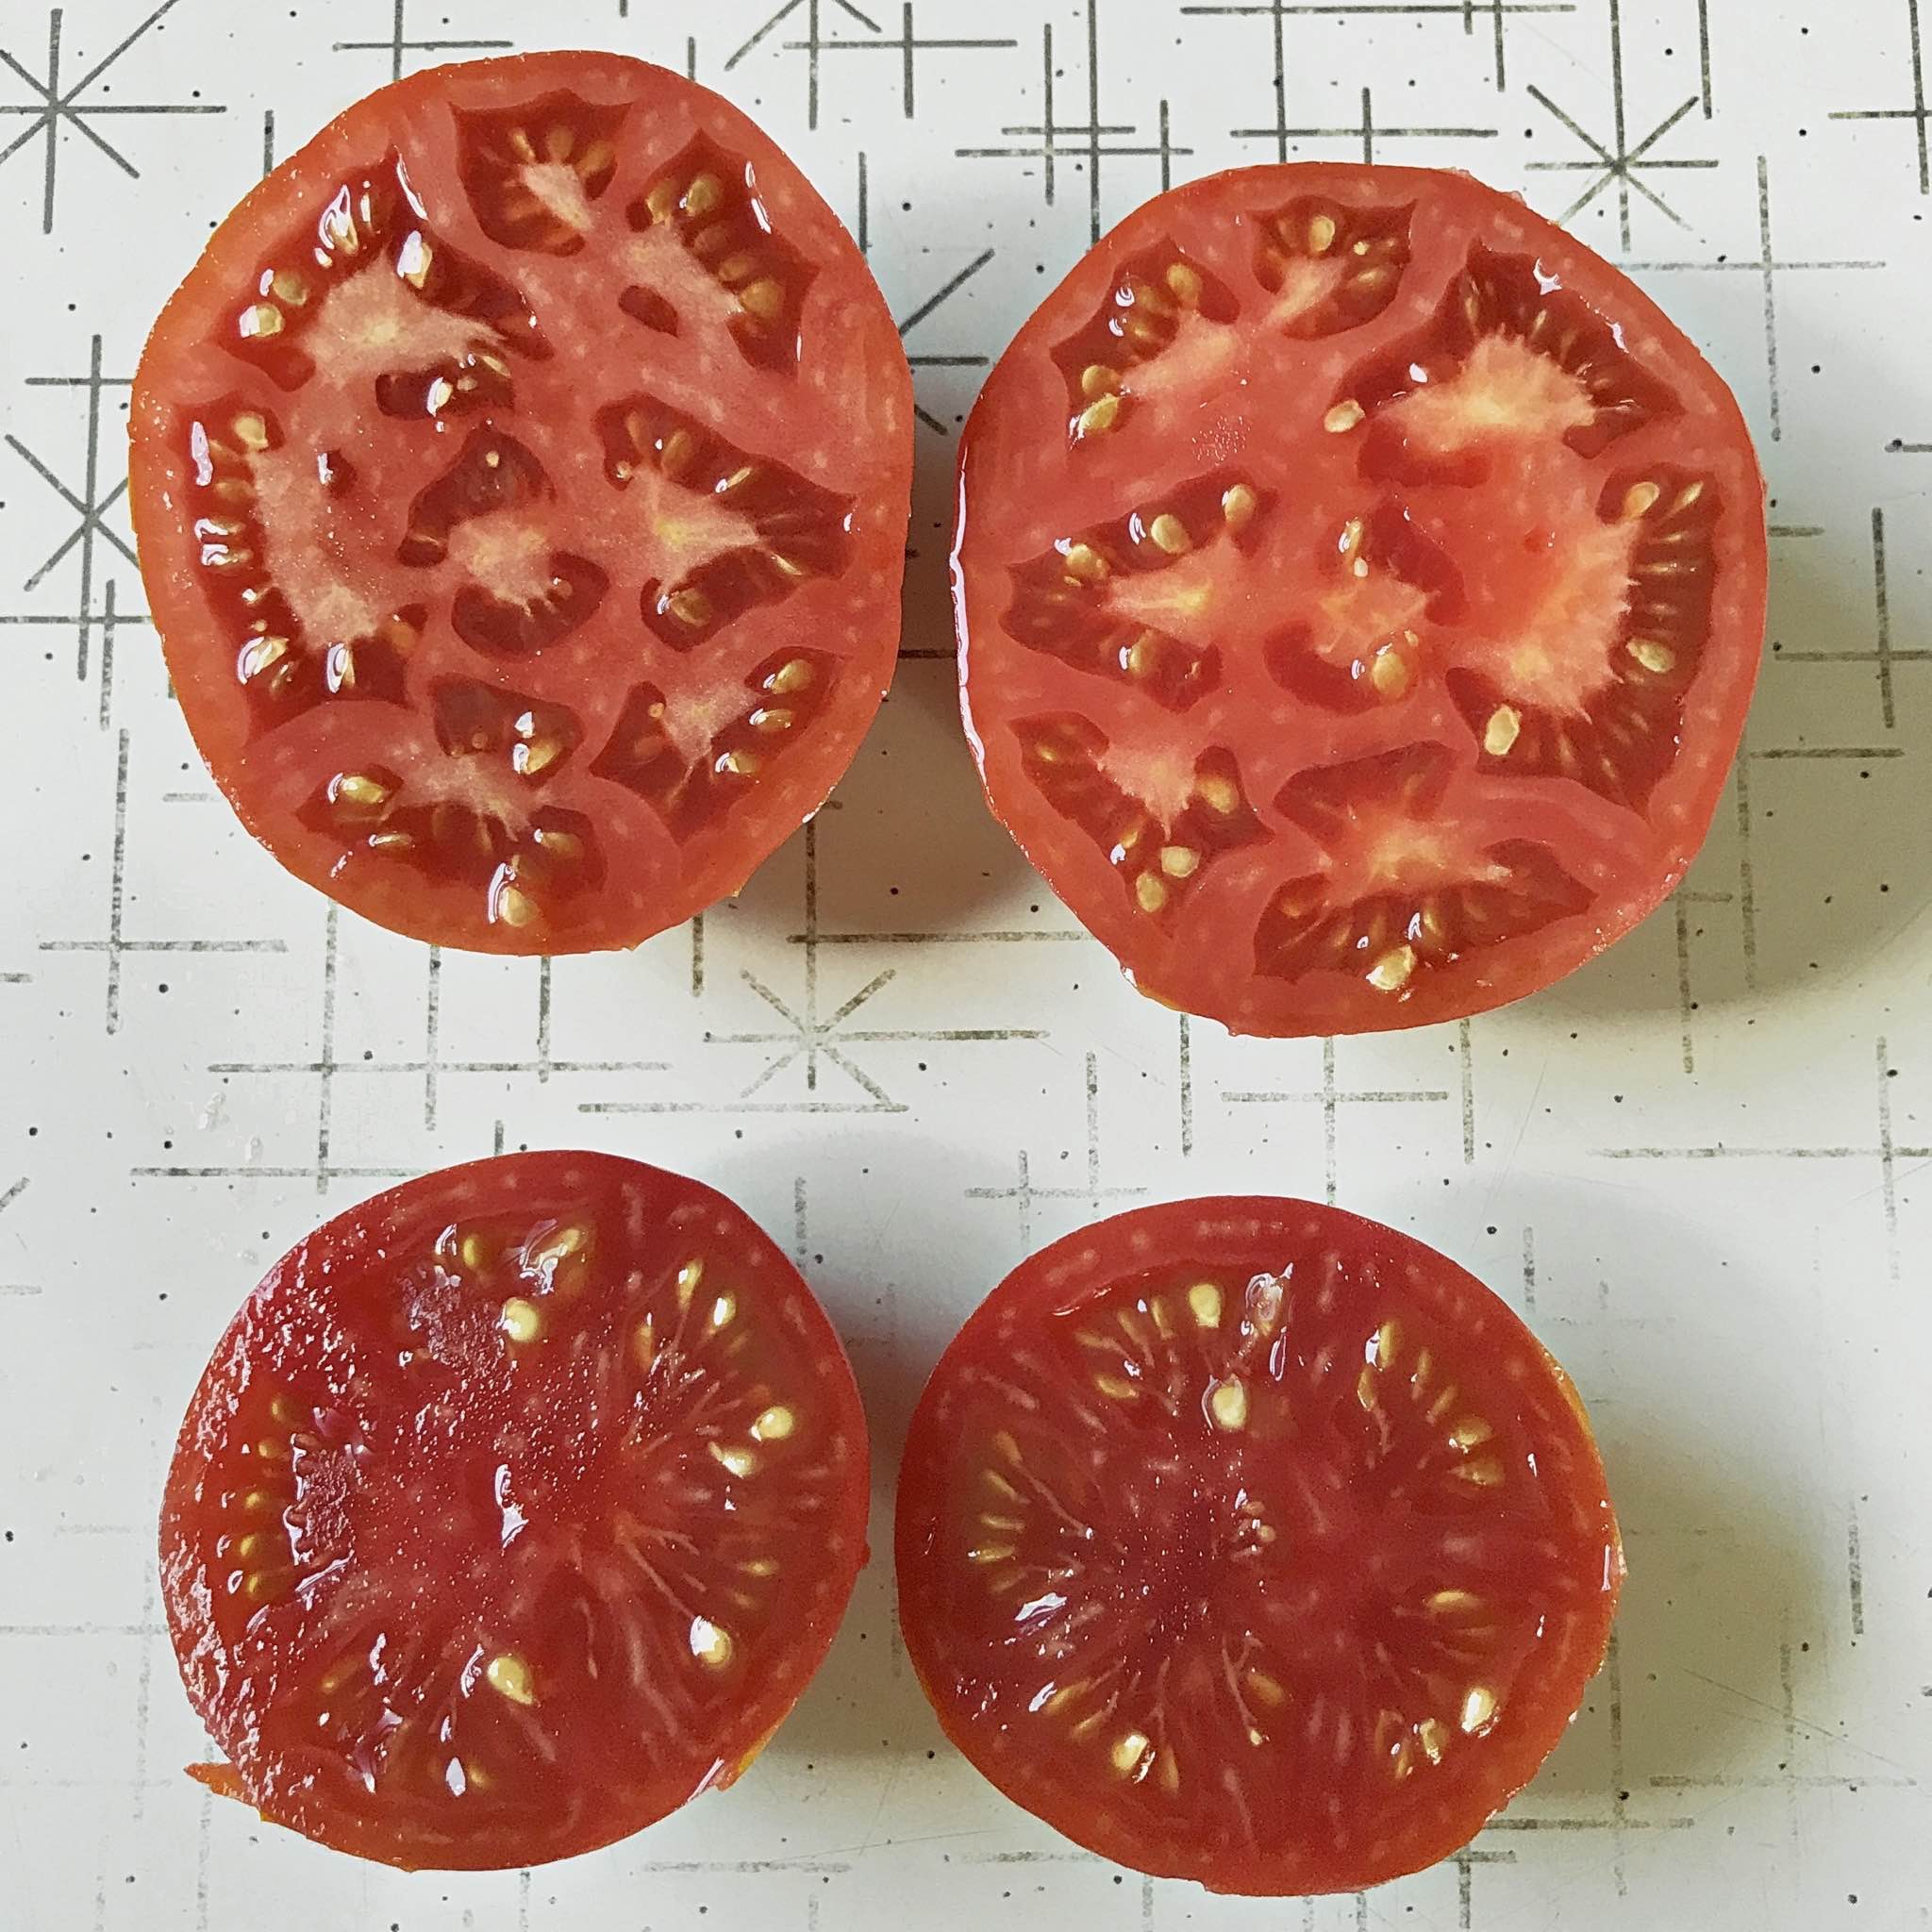tomato: (954, 163, 1773, 1037), (129, 55, 916, 954), (152, 1150, 872, 1874), (895, 1200, 1614, 1893)
